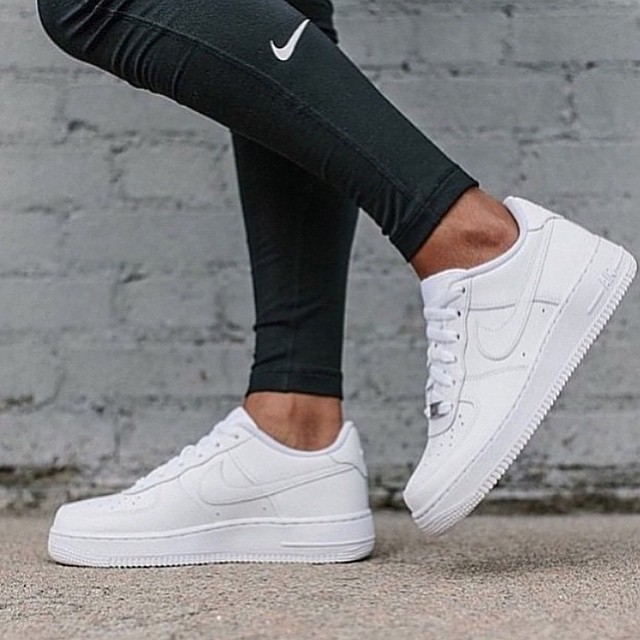sneaker: (386, 162, 640, 552), (17, 348, 401, 587)
